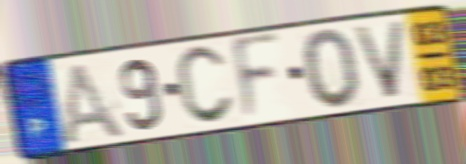9: (119, 56, 164, 132)
A: (56, 58, 129, 144)
C: (173, 43, 237, 129)
F: (229, 29, 283, 127)
O: (300, 26, 363, 113)
V: (349, 19, 409, 102)
